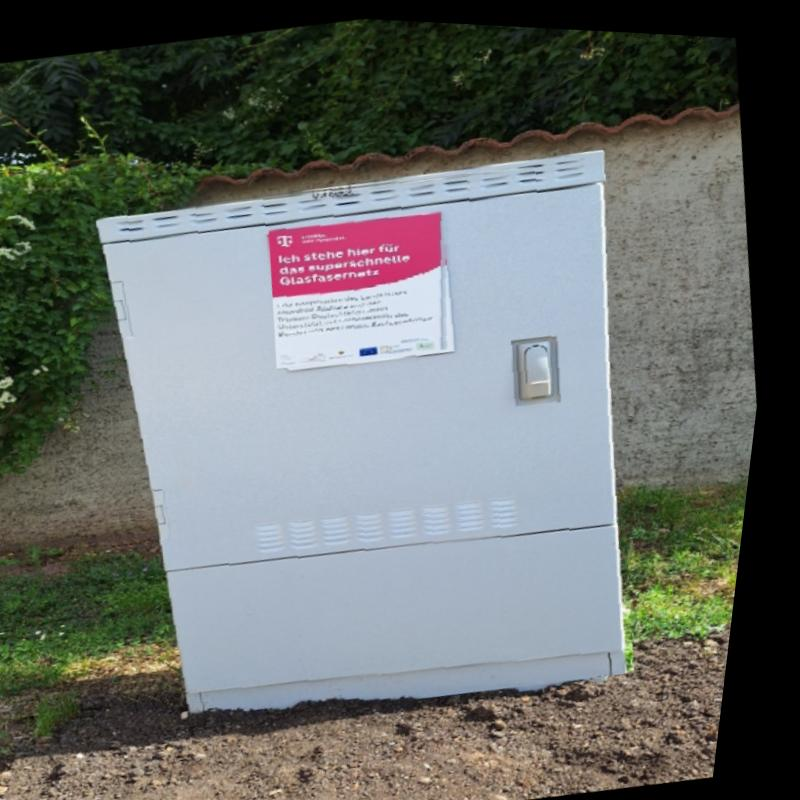NT-Gehause: (99, 152, 630, 710)
Steaker: (261, 192, 475, 374)
